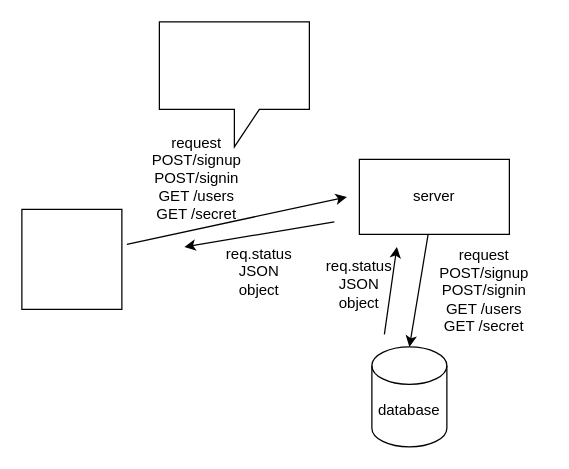
The diagram is 569 pixels wide and 469 high, and some of its shapes have lost their labels. Here are the shapes that lost their labels. From the top down, the centre of each, then its label:
At (233,84): "middleware: ACL, basic, bearer, logger".
At (71,258): "client".
